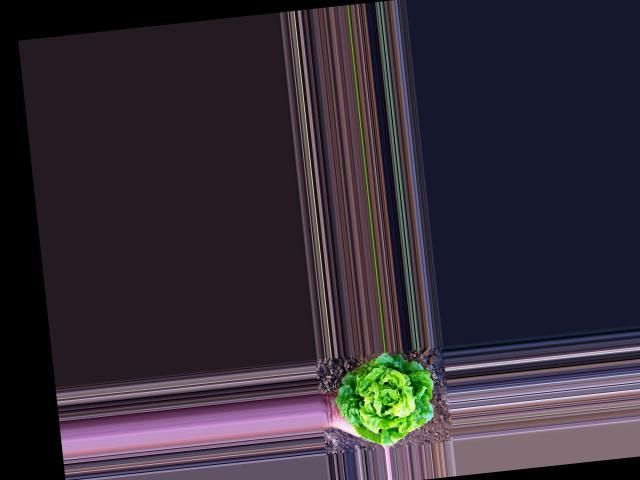lettuce: (337, 350, 440, 447)
